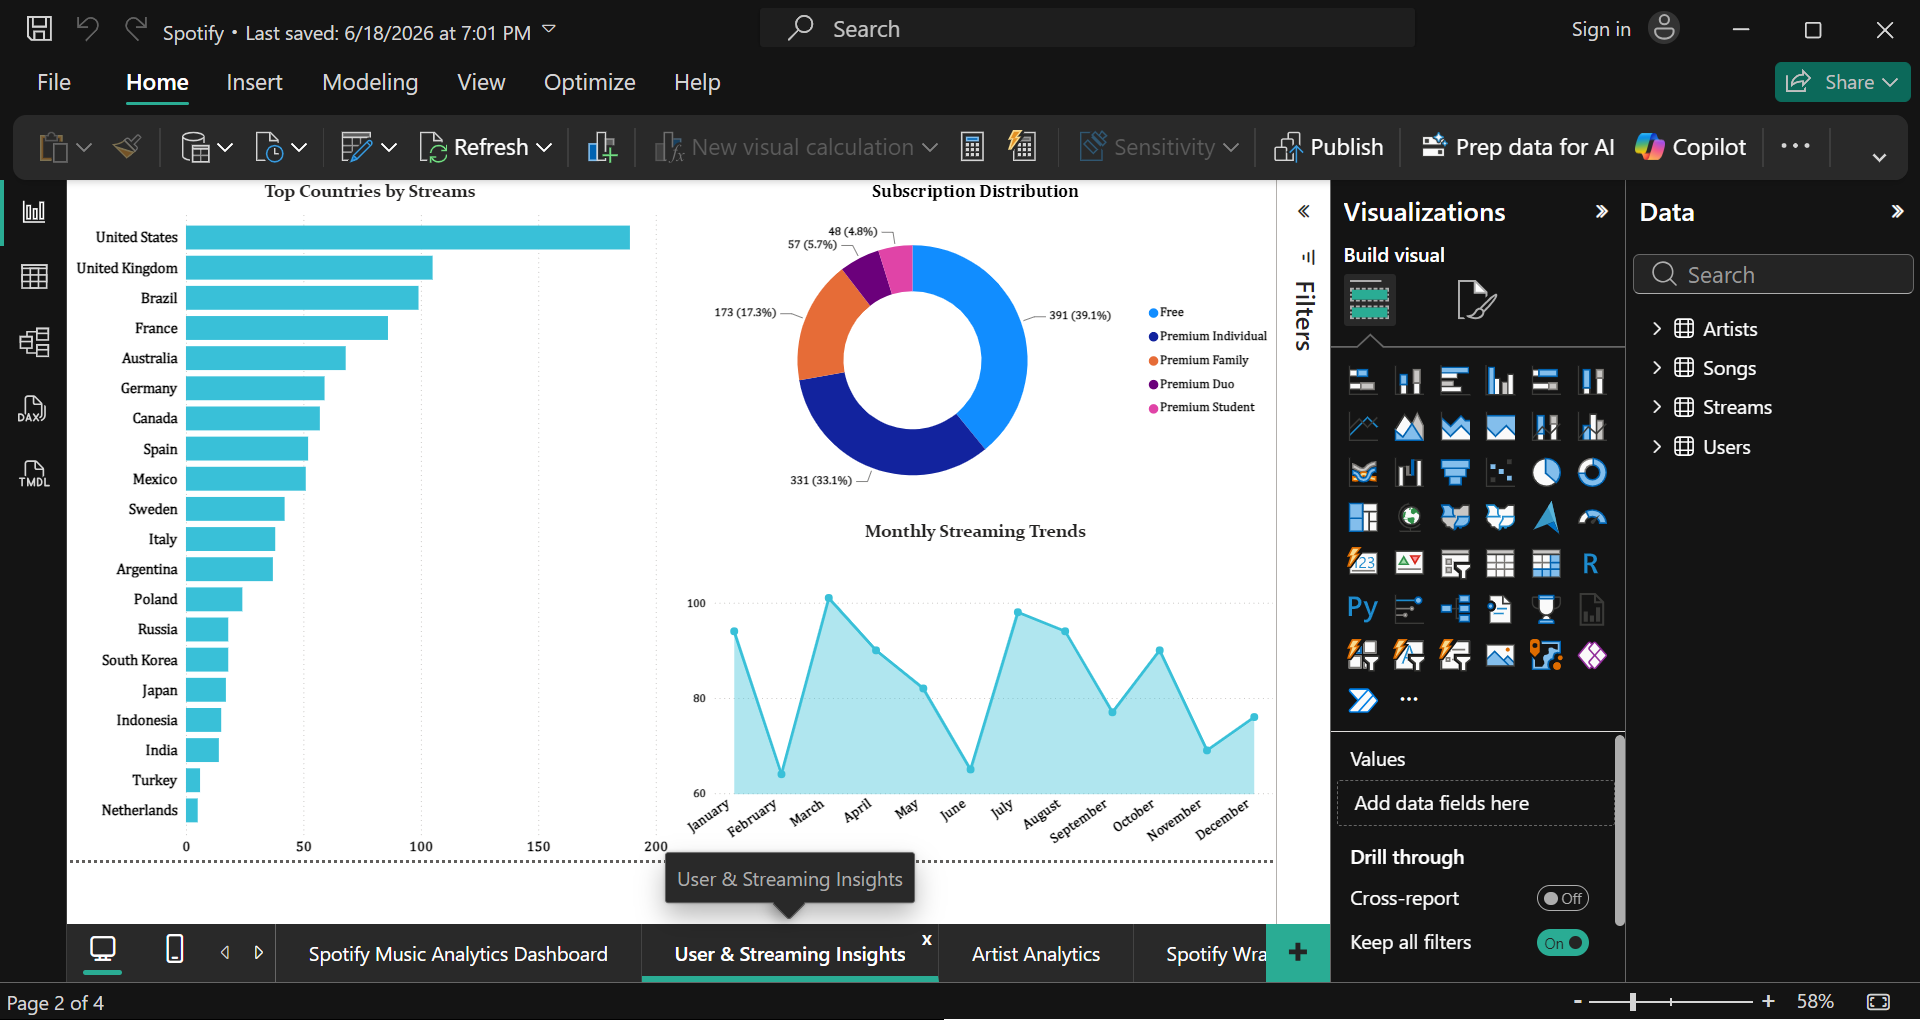

The page's visual inventory and layout, read from the dashboard file:
{"tool":"powerbi","page":{"name":"User & Streaming Insights","canvas":[1280,720],"ordinal":1},"visuals":[{"type":"lineChart","title":"Monthly Streaming Trends","fields":{"Category":["Streams.Stream_Date.Variation.Date Hierarchy.Month"],"Y":["CountNonNull(Streams.Stream_ID)"]},"box":[640.4,359.6,640.4,359.6],"z":0},{"type":"barChart","title":"Top Countries by Streams","fields":{"Category":["Spotify Users.Country"],"Y":["CountNonNull(Streams.Stream_ID)"]},"box":[0,0,641.1,720.8],"z":1000},{"type":"donutChart","title":"Subscription Distribution","fields":{"Category":["Spotify Users.Subscription_Type"],"Y":["CountNonNull(Streams.Stream_ID)"]},"box":[640.4,0,640.4,359.6],"z":2000}]}

Visuals, with their boxes on the page's 1280x720 design canvas (x1, y1, x2, y2). These are canvas units, not pixel positions in the 1920x1020 screenshot, which may show the page scaled, cropped or inside an application window:
"Monthly Streaming Trends" lineChart: <box>640,360,1281,719</box>
"Top Countries by Streams" barChart: <box>0,0,641,721</box>
"Subscription Distribution" donutChart: <box>640,0,1281,360</box>
